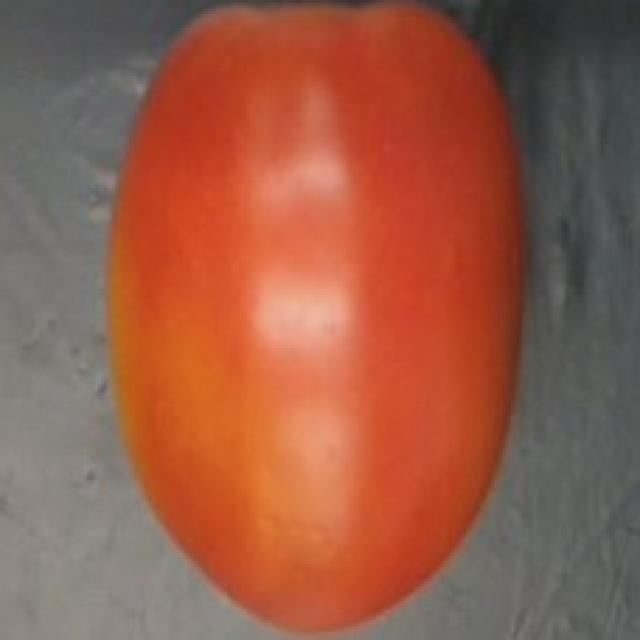ripe tomato: (77, 0, 542, 640)
